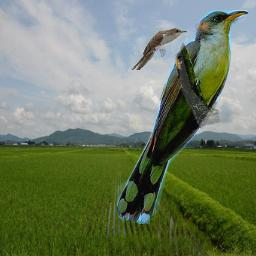Cuckoo: (117, 10, 248, 224), (131, 28, 187, 70)
